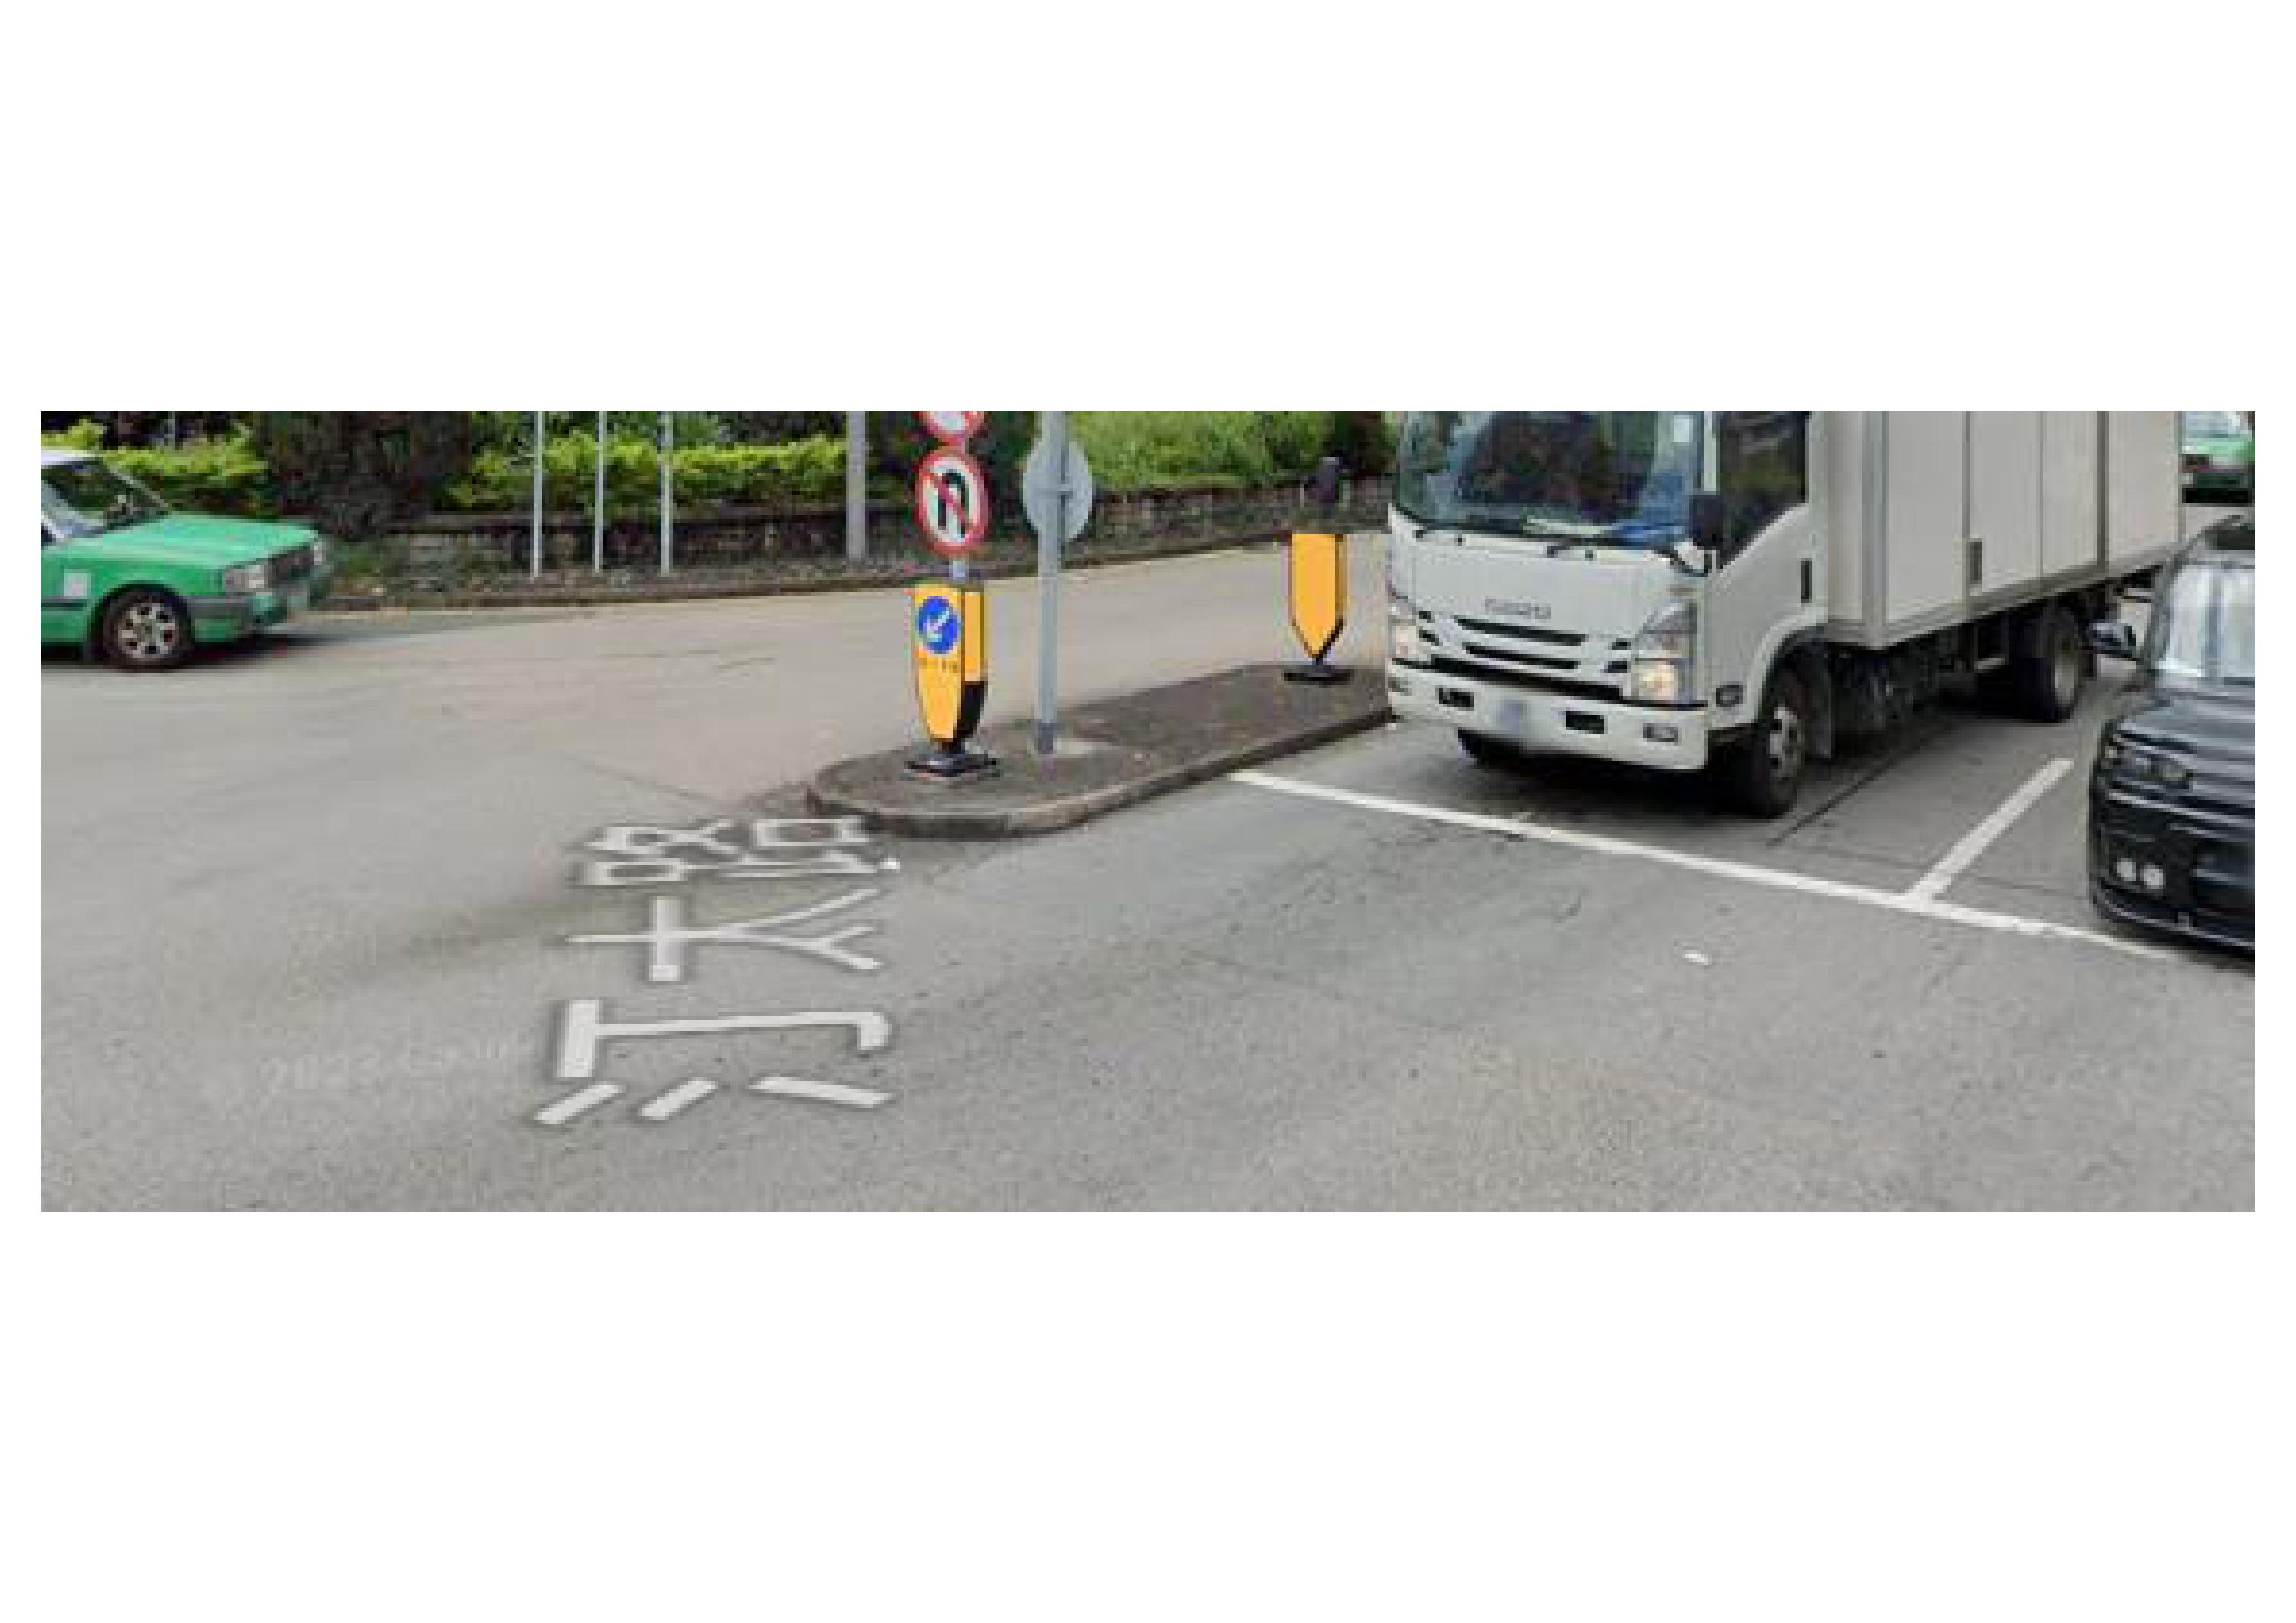No Uturn: (908, 446, 994, 560)
